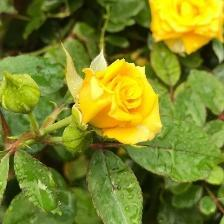rose: (75, 58, 165, 149), (151, 1, 224, 54)
